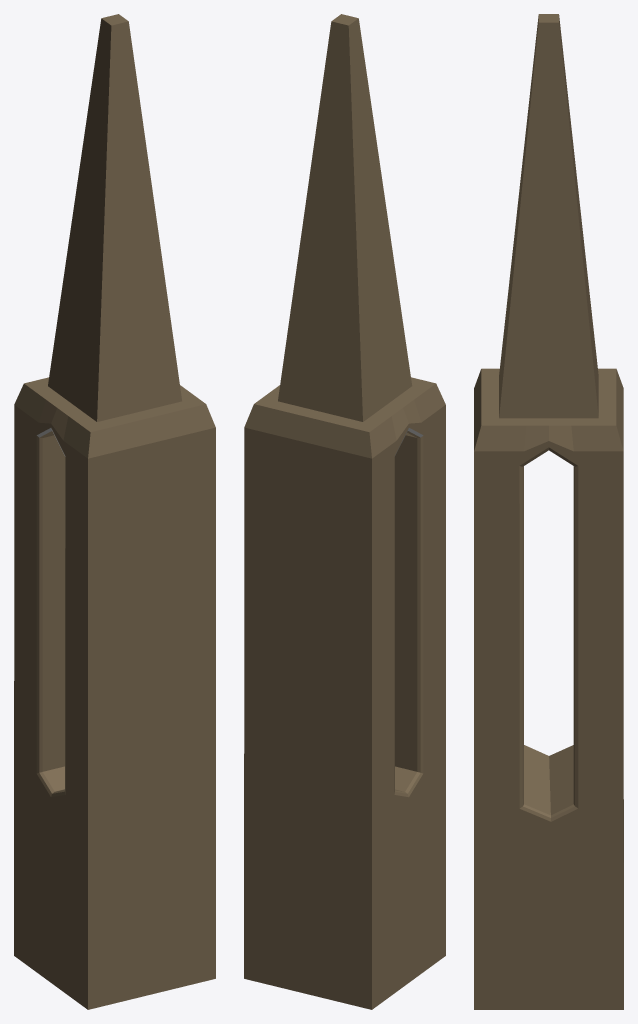
3 views of the same model, side by side, from view 1: azimuth 30°, elevation 25°; view 2: azimuth 150°, elevation 25°; view 3: azimuth 270°, elevation 25° (orthographic).
Parts seen in each view (by area): view 1: BG2; view 2: BG2; view 3: BG2.
Boxes of the visible parts, x1,y1,x2,y2 form: BG2: [14, 14, 215, 1009]; BG2: [244, 14, 445, 1009]; BG2: [474, 14, 623, 1009].
Bounding box in the file's own units: 14.87 × 105 × 14.9.
